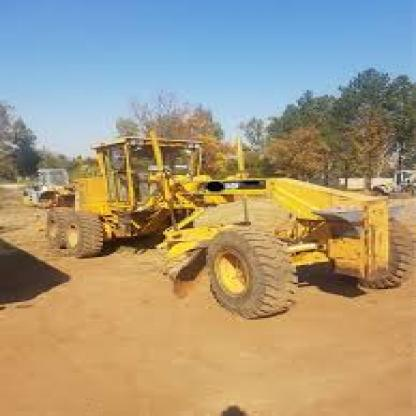bull_dozer/loader/grader: (34, 127, 414, 332)
